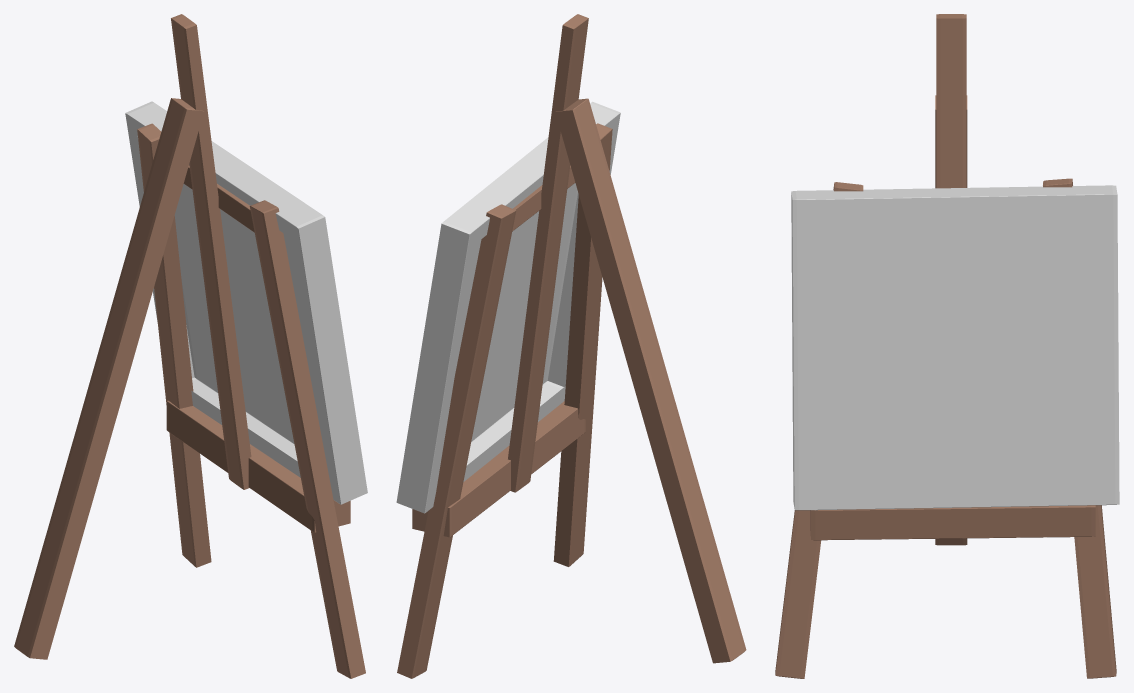
Rendered from canva.fbx.
The picture shows the model from 3 angles, left to right: view 1: azimuth 30°, elevation 25°; view 2: azimuth 150°, elevation 25°; view 3: azimuth 270°, elevation 25°; orthographic projection.
Parts seen in each view (by area): view 1: Cube.005; view 2: Cube.005; view 3: Cube.005.
Boxes of the visible parts, <box> form: Cube.005: <box>14,14,367,678</box>; Cube.005: <box>396,14,746,678</box>; Cube.005: <box>775,14,1119,678</box>.
Size of the model in its own units: 64.09 by 141 by 70.97.
